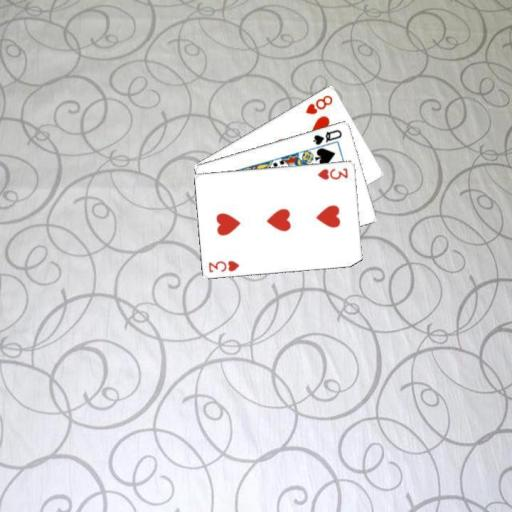card-corner: (302, 92, 334, 116), (310, 126, 344, 146), (206, 256, 241, 274), (314, 165, 349, 181)
